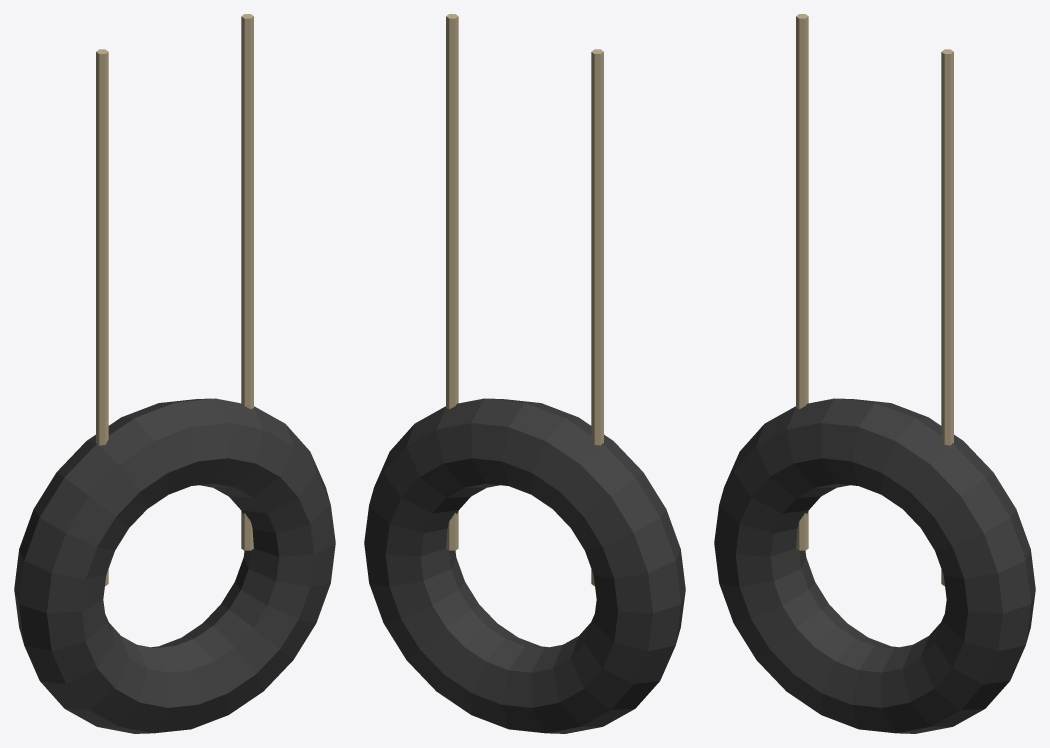
Rendered from tire-swing.glb.
3 renders of one model, left to right at view 1: azimuth 30°, elevation 25°; view 2: azimuth 150°, elevation 25°; view 3: azimuth 330°, elevation 25°, orthographic.
Parts seen in each view (by area): view 1: tire_swing; view 2: tire_swing; view 3: tire_swing.
Part boxes in pixels (x1,y1,x2,y2): tire_swing: (14, 14, 335, 733); tire_swing: (364, 14, 685, 733); tire_swing: (714, 14, 1035, 733).
Size of the model in its own units: 0.86 by 1.83 by 0.22.
